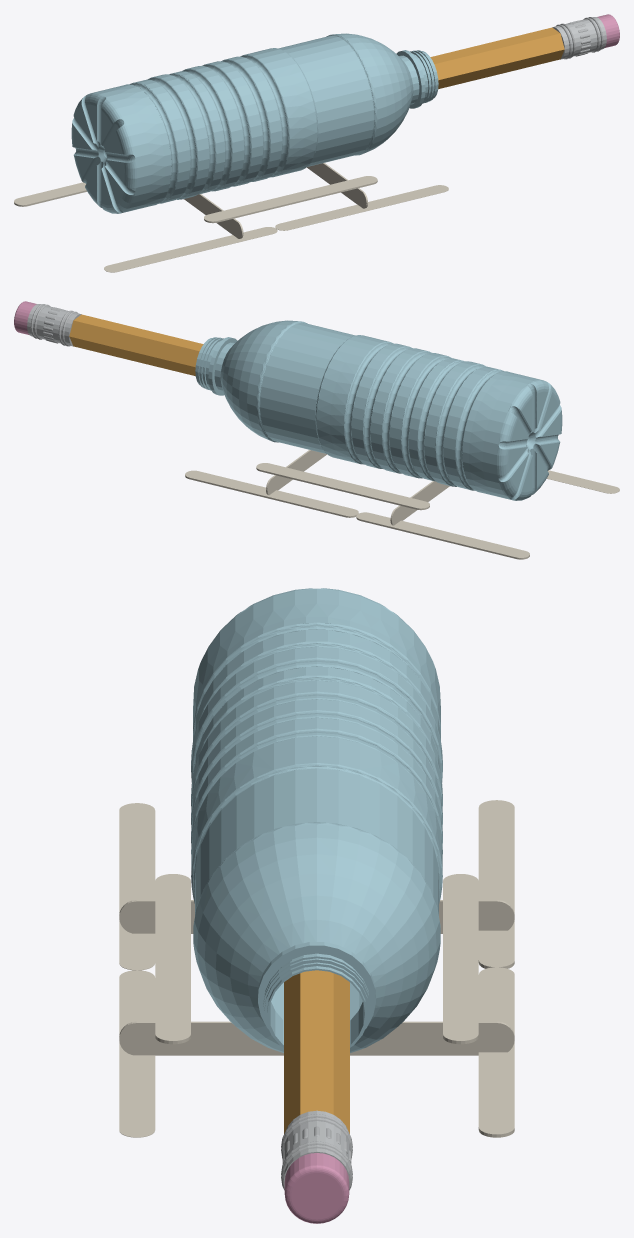
File: HeliBody.glb
3 renders of one model, top to bottom at view 1: azimuth 30°, elevation 25°; view 2: azimuth 150°, elevation 25°; view 3: azimuth 270°, elevation 25°, orthographic. The views are drawn at different scales.
Parts seen in each view (by area): view 1: Mesh_Mesh_head_geo.001_lambert2SG.001; view 2: Mesh_Mesh_head_geo.001_lambert2SG.001; view 3: Mesh_Mesh_head_geo.001_lambert2SG.001.
Part boxes in pixels (<box>): Mesh_Mesh_head_geo.001_lambert2SG.001: <box>14,14,619,272</box>; Mesh_Mesh_head_geo.001_lambert2SG.001: <box>14,301,619,559</box>; Mesh_Mesh_head_geo.001_lambert2SG.001: <box>119,588,514,1223</box>.
Bounding box in the file's own units: 35.5 × 8 × 11.
